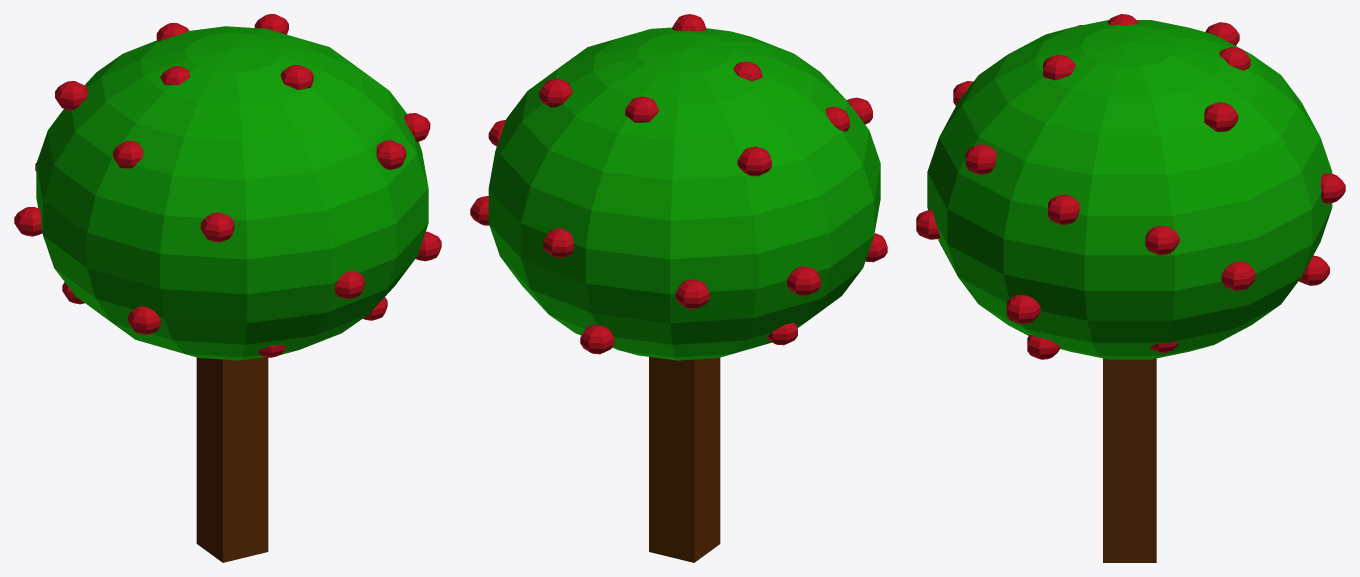
The model's file is tree.gltf.
The picture shows the model from 3 angles, left to right: view 1: azimuth 30°, elevation 25°; view 2: azimuth 150°, elevation 25°; view 3: azimuth 270°, elevation 25°; orthographic projection. The views are drawn at different scales.
Parts seen in each view (by area): view 1: tree, trunk, apple.001, apple.008, apple.007, apple, apple.002, apple.006, apple.005, apple.020, apple.003, apple.004; view 2: tree, trunk, apple.009, apple.008, apple.006, apple.010, apple.011, apple.012, apple.019; view 3: tree, trunk, apple.003, apple.012, apple.013, apple.004, apple, apple.014, apple.020, apple.011, apple.010, apple.018 (+1 smaller).
Boxes of the visible parts, x1=… form: tree: x1=36, y1=26, x2=428, y2=360; trunk: x1=196, y1=357, x2=268, y2=562; apple.001: x1=200, y1=212, x2=234, y2=242; apple.008: x1=55, y1=81, x2=87, y2=110; apple.007: x1=128, y1=306, x2=161, y2=334; apple: x1=376, y1=140, x2=406, y2=169; apple.002: x1=334, y1=270, x2=364, y2=299; apple.006: x1=14, y1=206, x2=42, y2=236; apple.005: x1=113, y1=141, x2=143, y2=168; apple.020: x1=280, y1=65, x2=313, y2=89; apple.003: x1=415, y1=231, x2=441, y2=261; apple.004: x1=404, y1=113, x2=430, y2=141; tree: x1=488, y1=27, x2=880, y2=360; trunk: x1=649, y1=357, x2=720, y2=562; apple.009: x1=675, y1=279, x2=709, y2=308; apple.008: x1=737, y1=146, x2=771, y2=176; apple.006: x1=787, y1=266, x2=820, y2=295; apple.010: x1=580, y1=325, x2=614, y2=354; apple.011: x1=543, y1=228, x2=573, y2=257; apple.012: x1=539, y1=78, x2=572, y2=107; apple.019: x1=625, y1=96, x2=659, y2=122; tree: x1=927, y1=20, x2=1332, y2=359; trunk: x1=1103, y1=358, x2=1156, y2=562; apple.003: x1=1006, y1=294, x2=1040, y2=324; apple.012: x1=1204, y1=102, x2=1238, y2=131; apple.013: x1=1145, y1=226, x2=1179, y2=255; apple.004: x1=1048, y1=194, x2=1079, y2=224; apple: x1=965, y1=144, x2=996, y2=174; apple.014: x1=1221, y1=261, x2=1255, y2=290; apple.020: x1=1043, y1=54, x2=1075, y2=80; apple.011: x1=1320, y1=173, x2=1345, y2=203; apple.010: x1=1299, y1=255, x2=1329, y2=285; apple.018: x1=1027, y1=334, x2=1060, y2=359.
Bounding box in the file's own units: 7.79 × 10.54 × 8.04.
